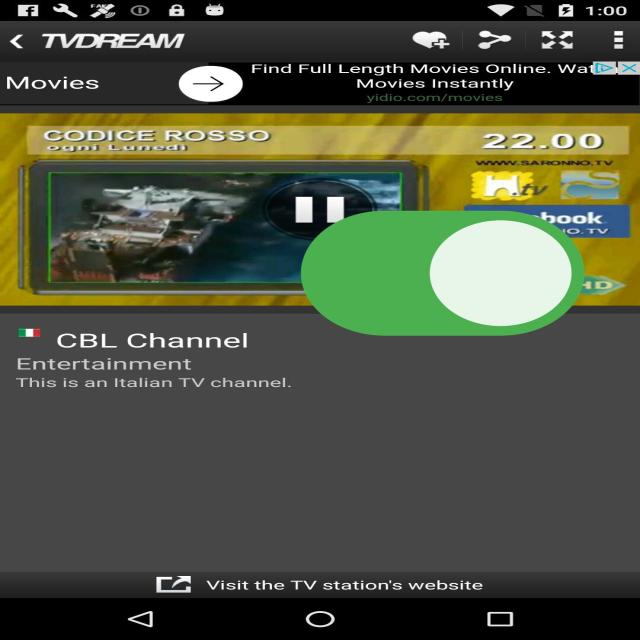social proof: (288, 163, 597, 393)
